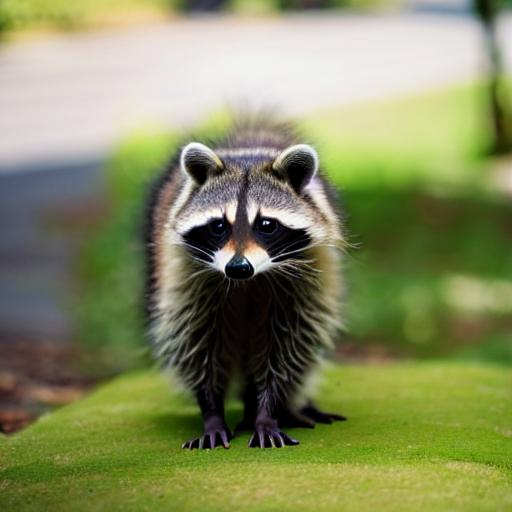raccoon: (131, 116, 352, 408)
